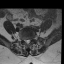CCS_normal: (26, 37, 28, 45)
LFS_stenosis: (30, 36, 32, 41)
LLS_normal: (28, 37, 30, 44)
RFS_stenosis: (22, 36, 24, 43)
RLS_normal: (24, 37, 26, 44)
